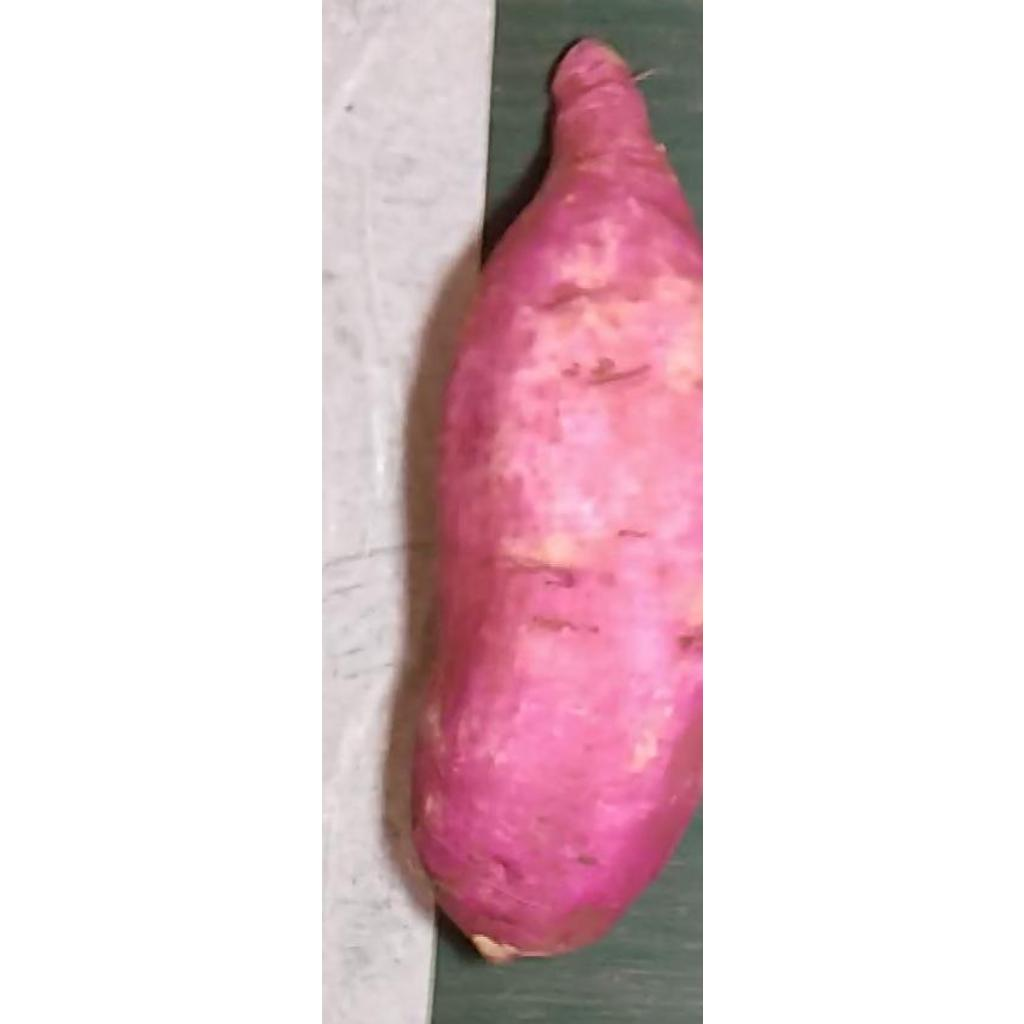Sweet Potato: (410, 36, 702, 962)
